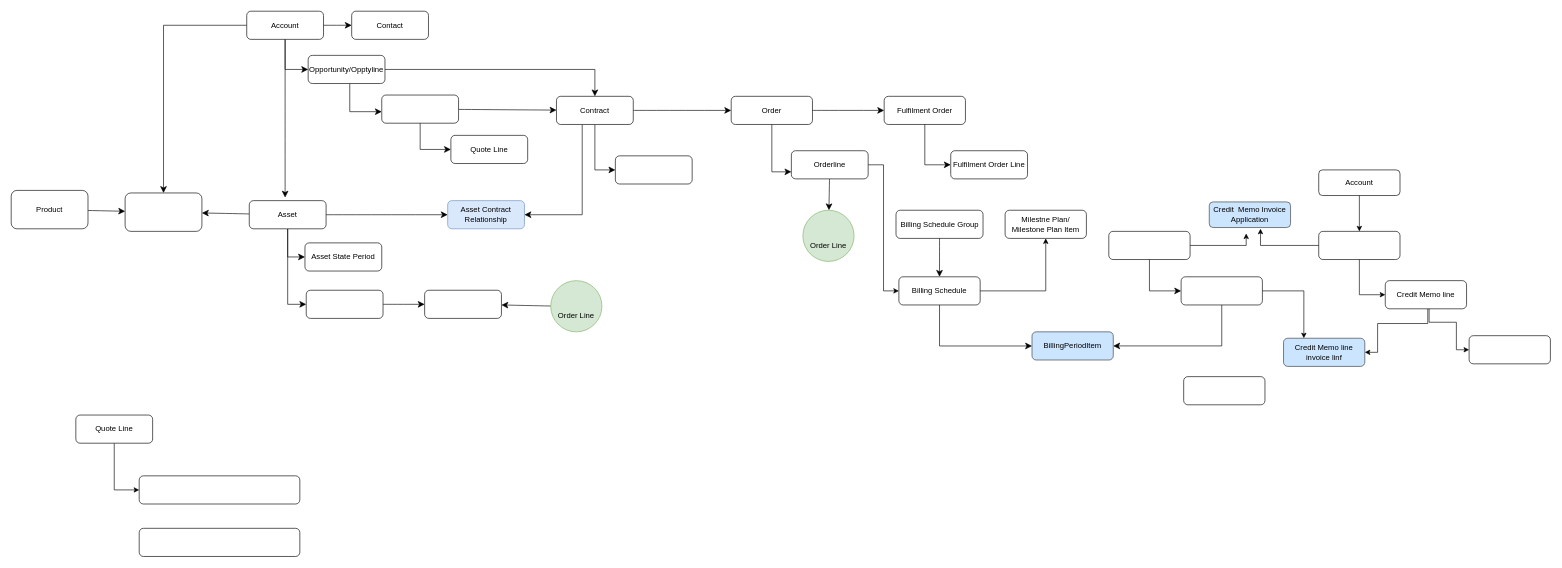
Image size: 1562x568. Some labels were removed from this diagram. Each missing label, with the centre of its shape:
"Asset Action" belongs at point 344,304.
"Asset Action Source" belongs at point 462,304.
"Contract Line Item" belongs at point 653,169.
"Credit Memo" belongs at point 1359,245.
"Credit Memo line Tax" belongs at point 1509,349.
"Entitlement" belongs at point 163,211.
"Invoice" belongs at point 1149,245.
"Invoice Line" belongs at point 1221,290.
"Invoice Line Tax" belongs at point 1224,390.
"Quote" belongs at point 420,108.
"Quote Line Usage Resource Grant" belongs at point 219,489.
"Quote Line Usage Resource Policies" belongs at point 219,542.
